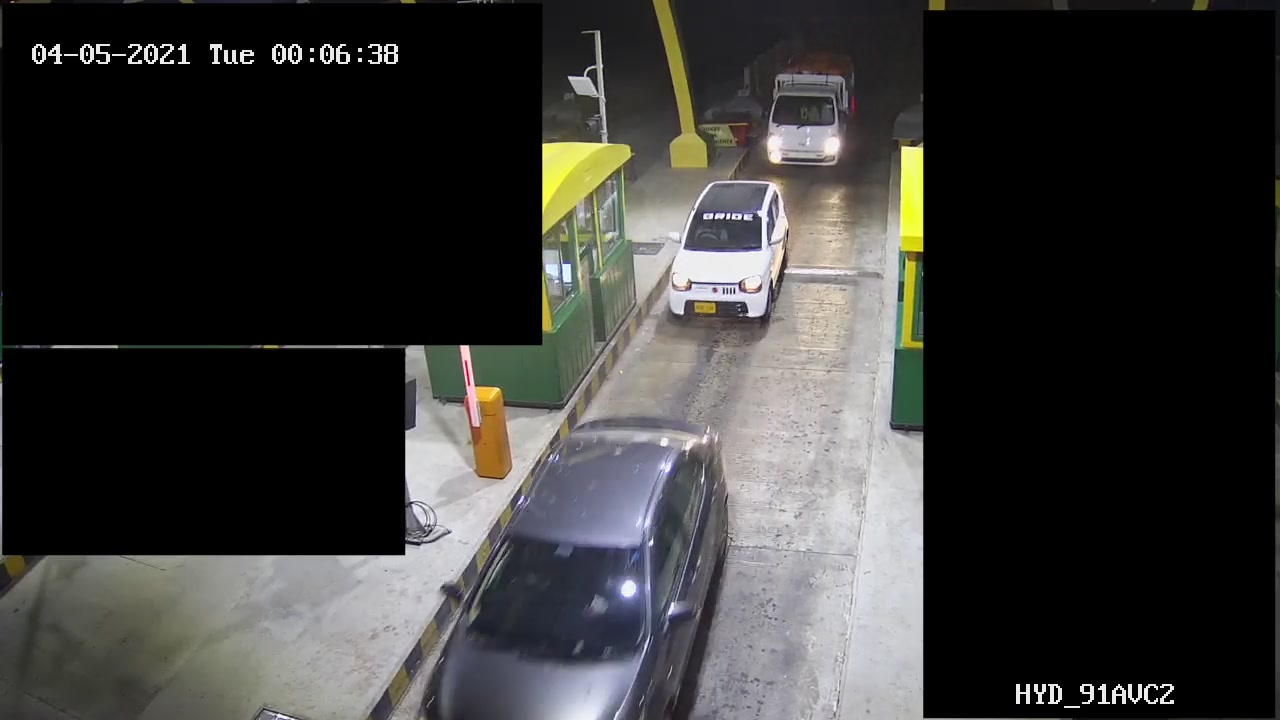F1: (667, 176, 793, 337)
